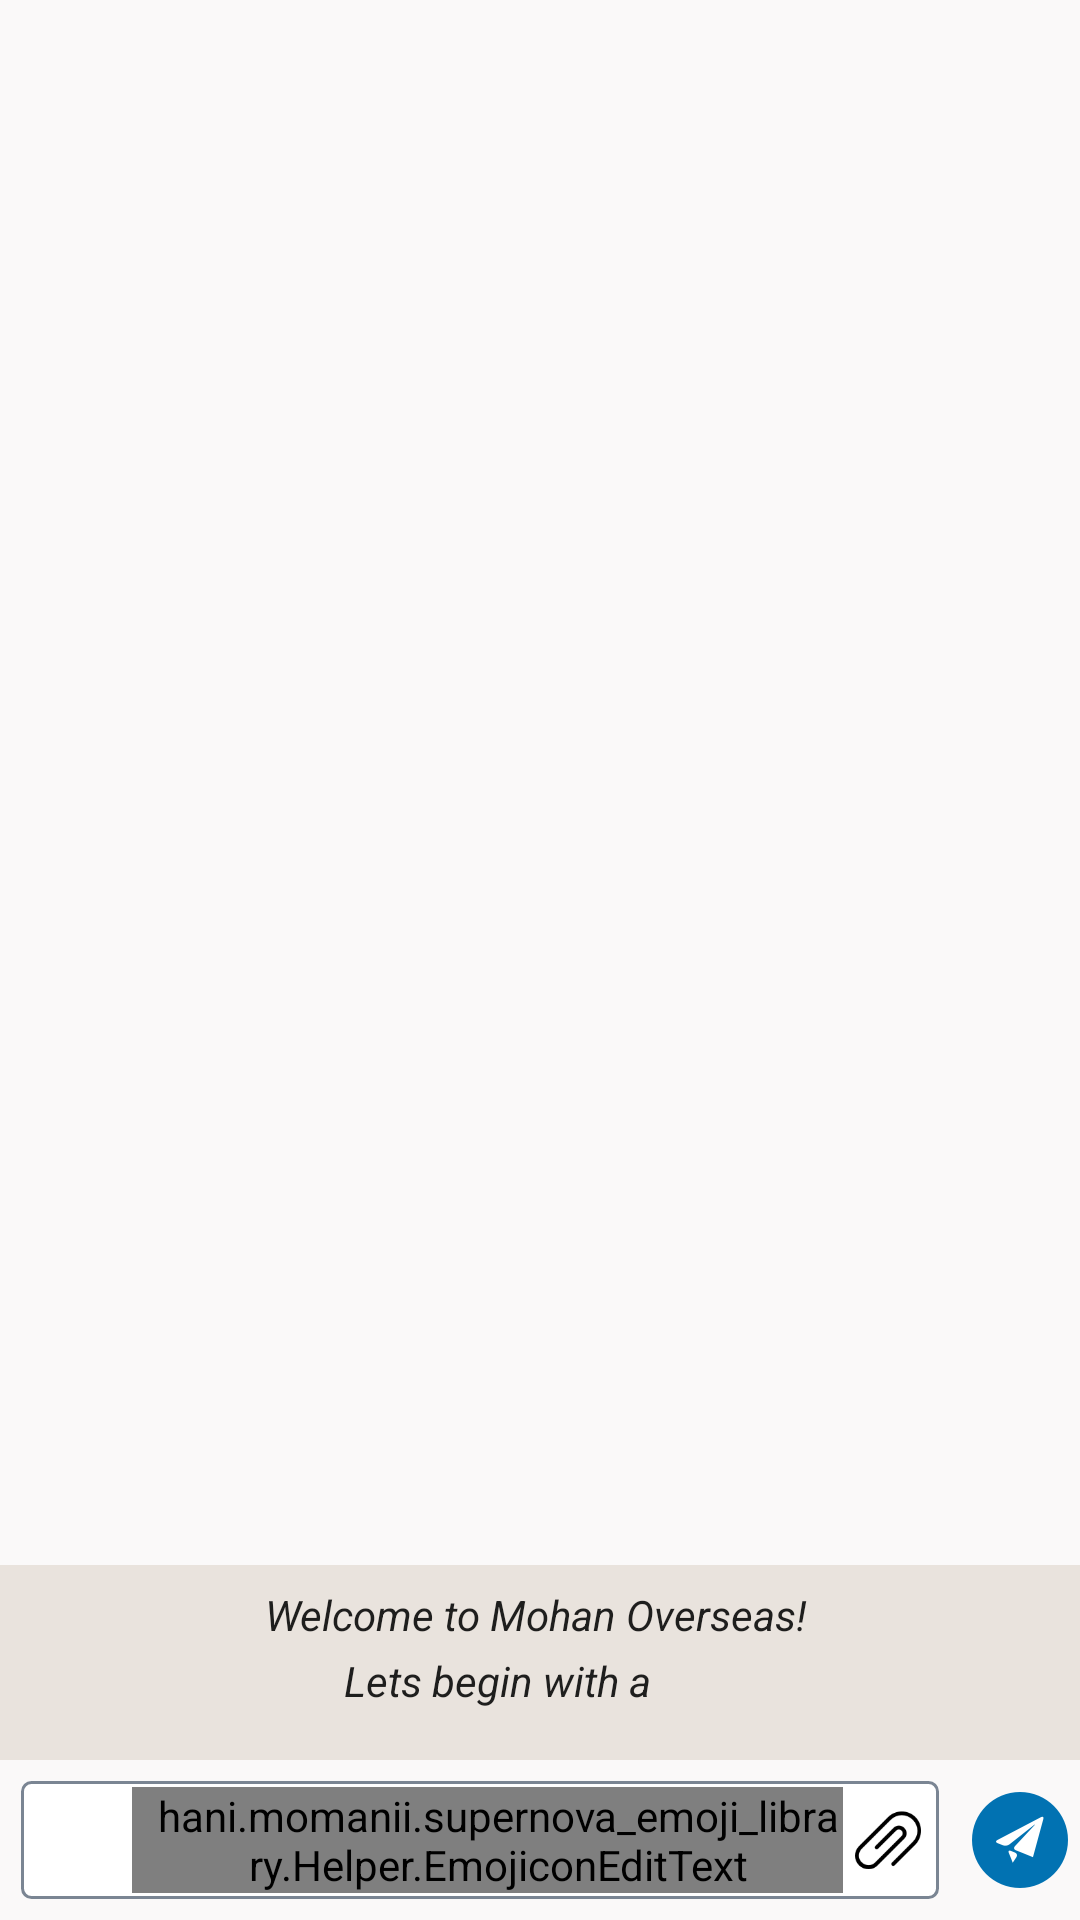

Icon bounding boxes for this 1080w x 1920h phone screenshot, format (x1, y1, x2, y2):
attach file: (855, 1811, 921, 1869)
send: (972, 1792, 1068, 1888)
